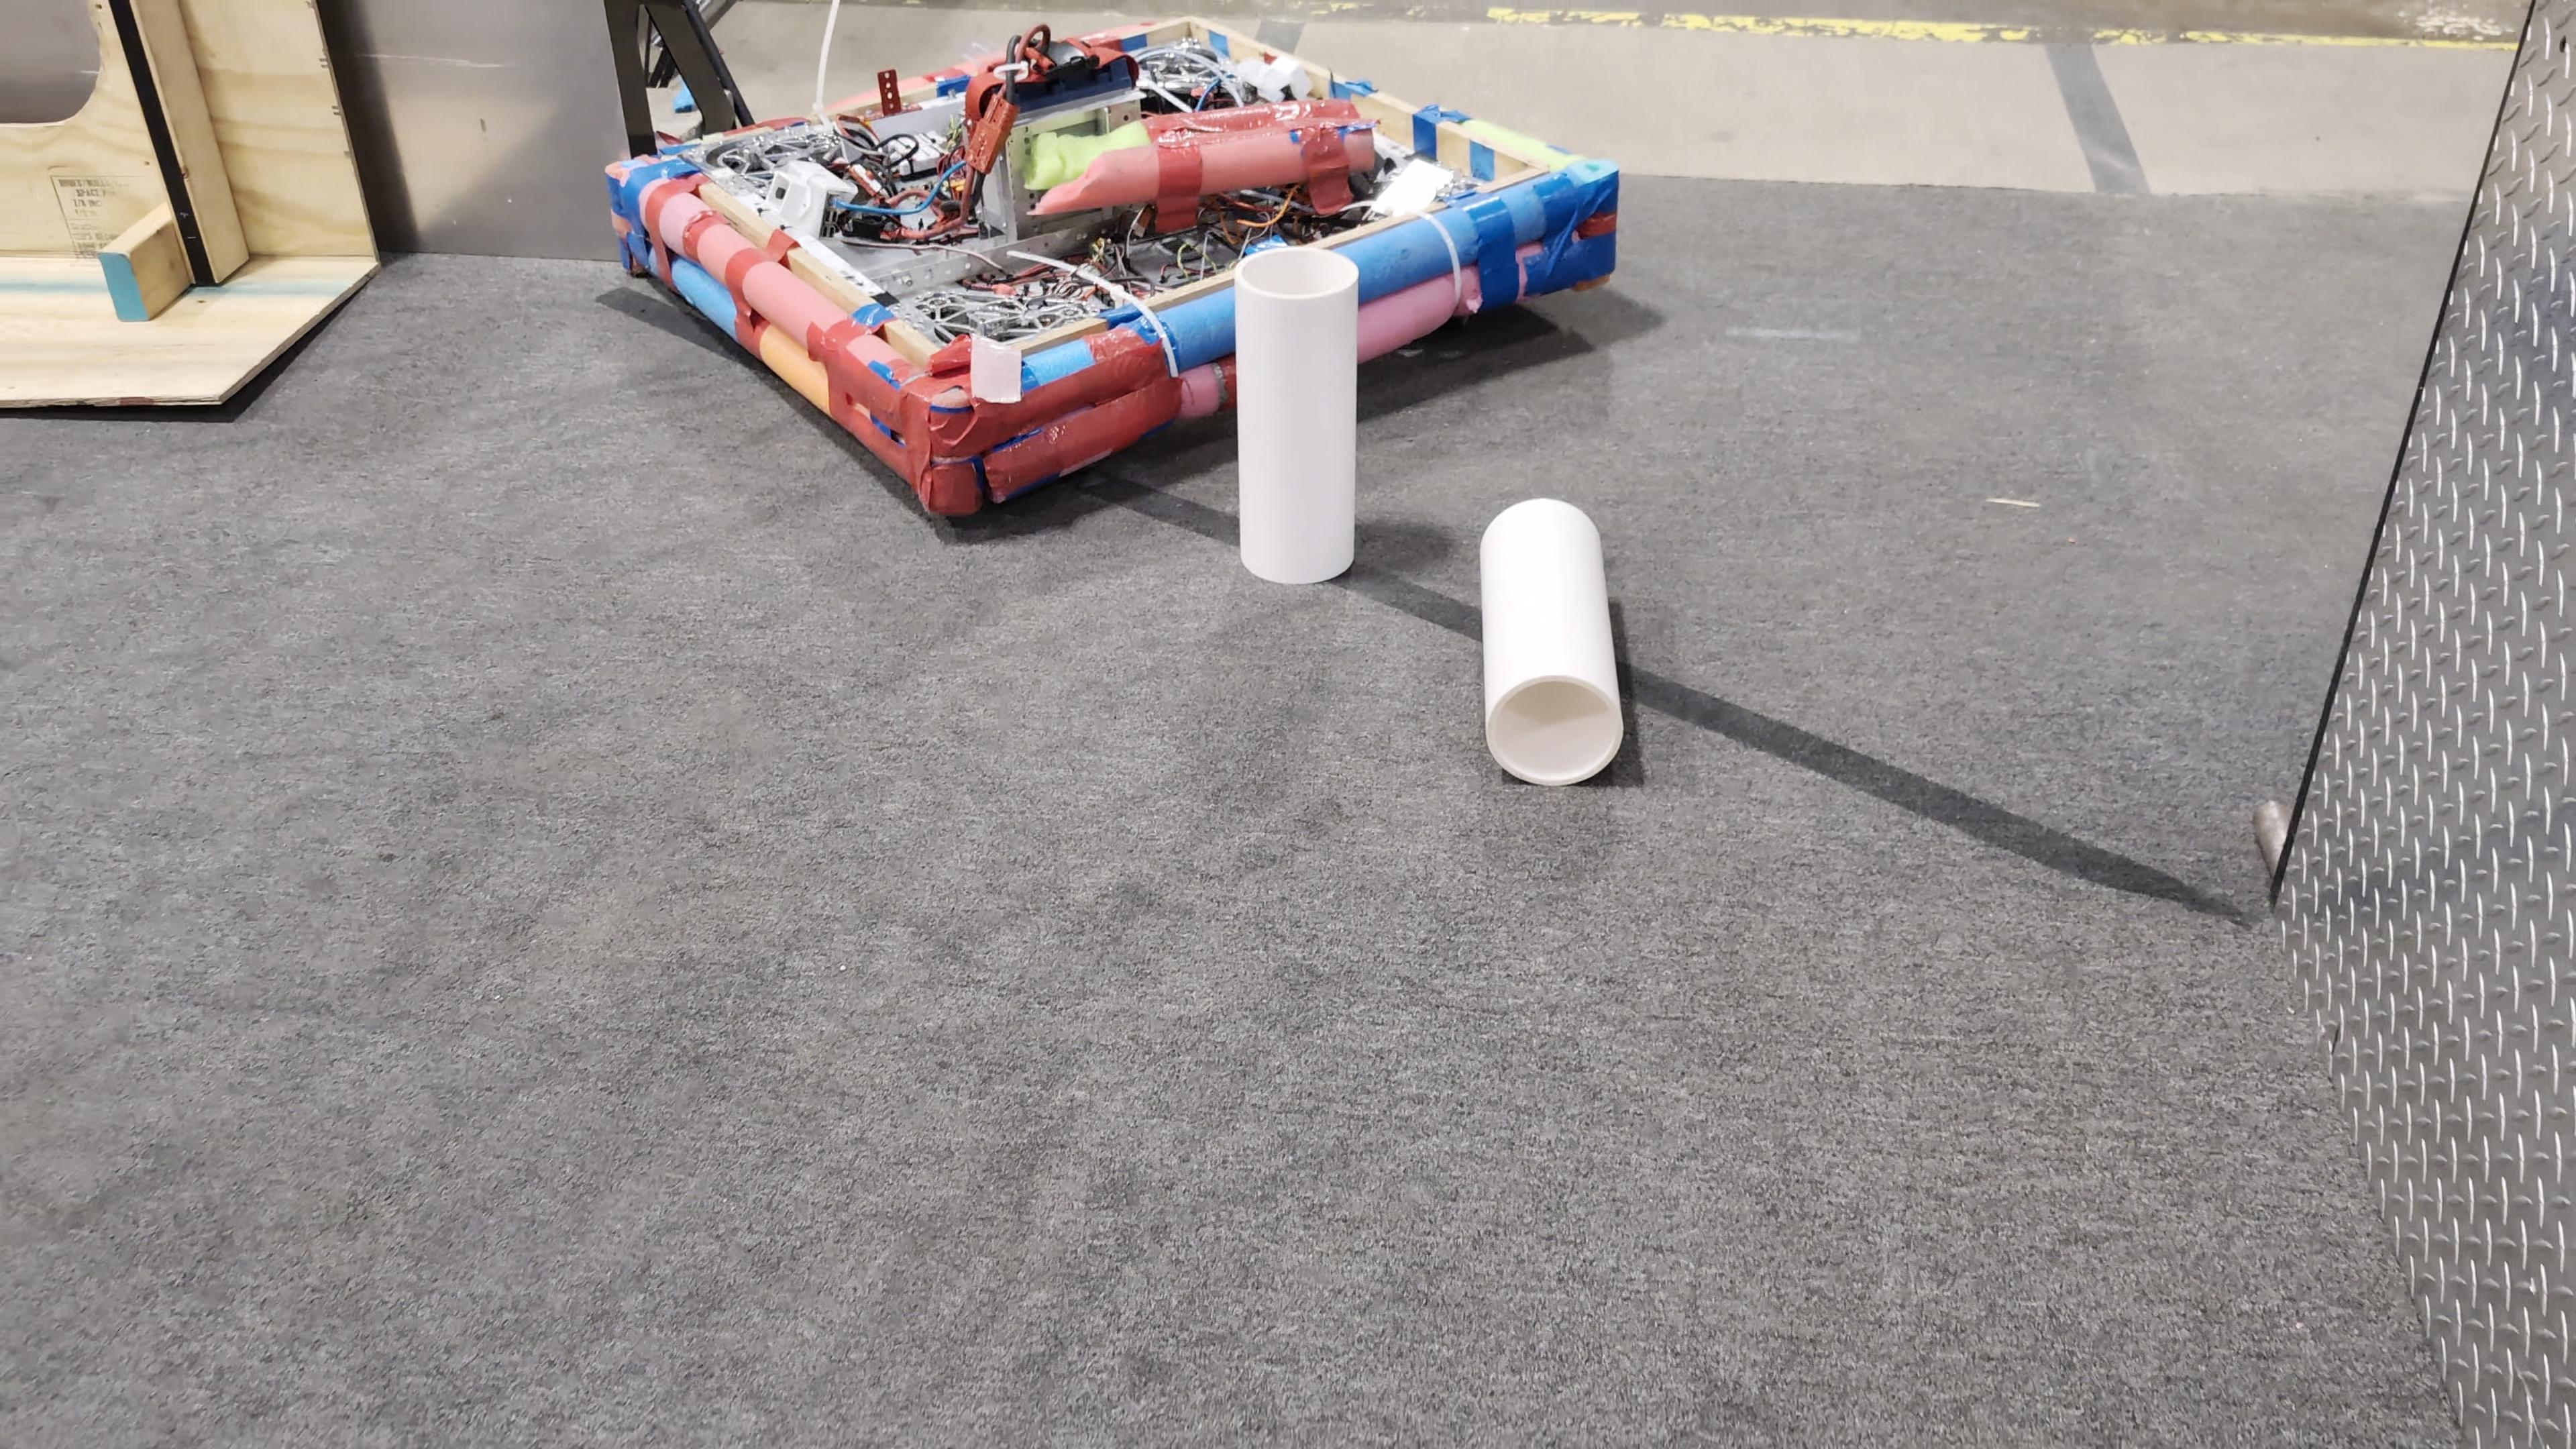coral: (1228, 239, 1362, 586), (1477, 494, 1628, 786)
